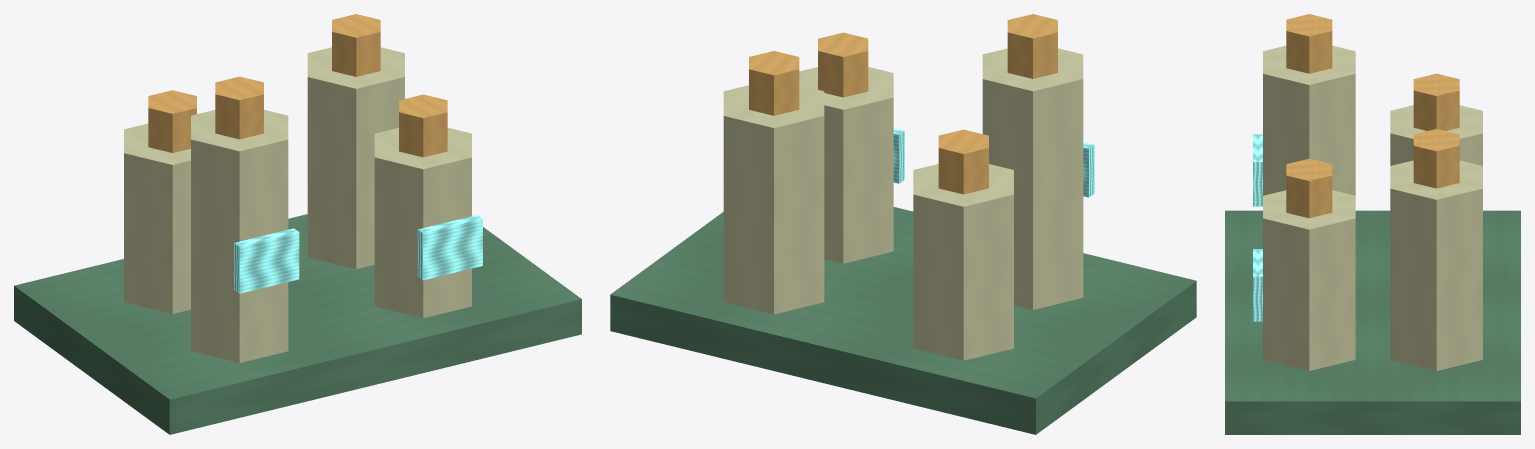
File: atlas100-s001-a04.lod1.glb
The picture shows the model from 3 angles, left to right: view 1: azimuth 30°, elevation 25°; view 2: azimuth 150°, elevation 25°; view 3: azimuth 270°, elevation 25°; orthographic projection. The views are drawn at different scales.
Visible parts, largest first — view 1: atlas100-s001-a04:part-000, atlas100-s001-a04:part-007, atlas100-s001-a04:part-004, atlas100-s001-a04:part-010, atlas100-s001-a04:part-001, atlas100-s001-a04:part-012, atlas100-s001-a04:part-009, atlas100-s001-a04:part-005, atlas100-s001-a04:part-008, atlas100-s001-a04:part-011, atlas100-s001-a04:part-002; view 2: atlas100-s001-a04:part-000, atlas100-s001-a04:part-004, atlas100-s001-a04:part-007, atlas100-s001-a04:part-001, atlas100-s001-a04:part-010, atlas100-s001-a04:part-008, atlas100-s001-a04:part-002, atlas100-s001-a04:part-005, atlas100-s001-a04:part-011, atlas100-s001-a04:part-009, atlas100-s001-a04:part-012; view 3: atlas100-s001-a04:part-000, atlas100-s001-a04:part-004, atlas100-s001-a04:part-010, atlas100-s001-a04:part-007, atlas100-s001-a04:part-001, atlas100-s001-a04:part-005, atlas100-s001-a04:part-011, atlas100-s001-a04:part-008, atlas100-s001-a04:part-002, atlas100-s001-a04:part-009, atlas100-s001-a04:part-012.
Part boxes in pixels (x1,y1,x2,y2): atlas100-s001-a04:part-000: (14,214,581,434); atlas100-s001-a04:part-007: (191,110,288,362); atlas100-s001-a04:part-004: (307,47,404,269); atlas100-s001-a04:part-010: (374,128,471,318); atlas100-s001-a04:part-001: (124,123,190,313); atlas100-s001-a04:part-012: (417,215,482,280); atlas100-s001-a04:part-009: (234,228,299,293); atlas100-s001-a04:part-005: (332,14,380,76); atlas100-s001-a04:part-008: (215,76,263,139); atlas100-s001-a04:part-011: (399,94,447,157); atlas100-s001-a04:part-002: (148,90,196,152); atlas100-s001-a04:part-000: (610,207,1196,434); atlas100-s001-a04:part-004: (723,85,824,314); atlas100-s001-a04:part-007: (982,48,1083,309); atlas100-s001-a04:part-001: (913,164,1013,360); atlas100-s001-a04:part-010: (799,67,893,263); atlas100-s001-a04:part-008: (1007,14,1057,78); atlas100-s001-a04:part-002: (938,129,988,194); atlas100-s001-a04:part-005: (749,51,799,115); atlas100-s001-a04:part-011: (818,32,868,97); atlas100-s001-a04:part-009: (1083,142,1094,197); atlas100-s001-a04:part-012: (893,128,904,183); atlas100-s001-a04:part-000: (1225,210,1520,434); atlas100-s001-a04:part-004: (1390,160,1482,370); atlas100-s001-a04:part-010: (1263,190,1355,370); atlas100-s001-a04:part-007: (1263,45,1355,195); atlas100-s001-a04:part-001: (1390,105,1482,165); atlas100-s001-a04:part-005: (1413,129,1459,188); atlas100-s001-a04:part-011: (1286,158,1332,218); atlas100-s001-a04:part-008: (1286,14,1332,73); atlas100-s001-a04:part-002: (1413,73,1459,130); atlas100-s001-a04:part-009: (1253,134,1262,206); atlas100-s001-a04:part-012: (1253,249,1262,321).
Bounding box in the file's own units: 1.18 × 0.7804 × 0.7697.
Materials: 4 (4 with a texture image).
